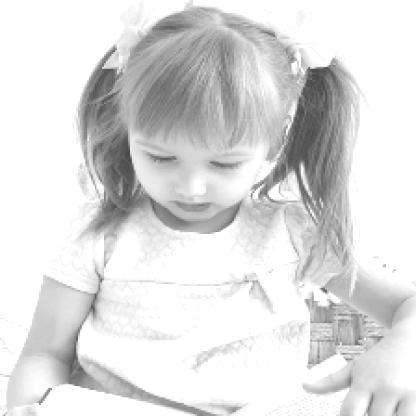child: (5, 5, 416, 416)
